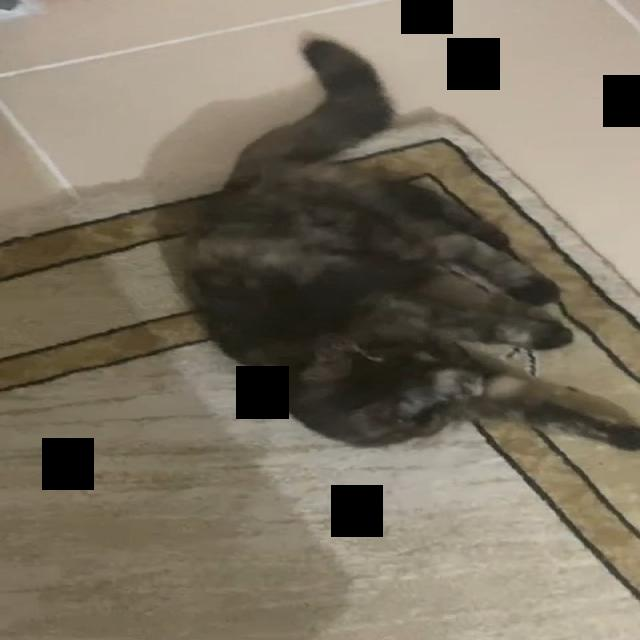authorized: (180, 31, 637, 452)
